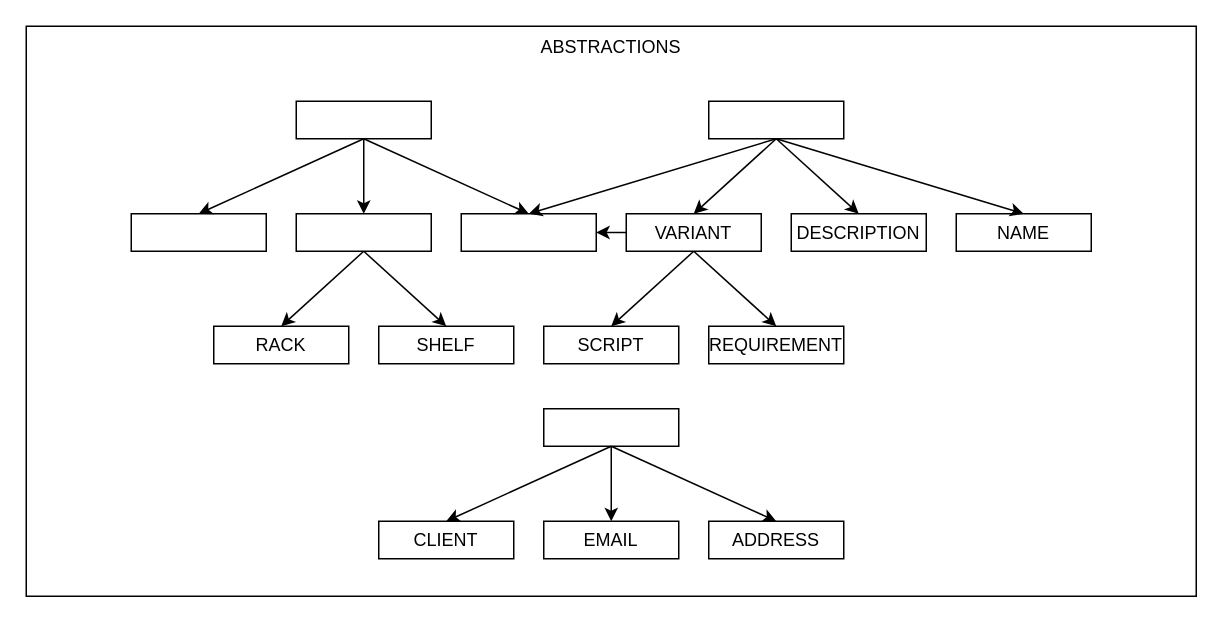
This 1223x623 diagram has some shape labels left out. Here are the shapes that lost their labels. From the top down, the centre of each, then its label:
At point (363, 119): "ITEM".
At point (775, 119): "COMMAND".
At point (198, 231): "QUANTITY".
At point (363, 231): "POSITION".
At point (528, 231): "ID".
At point (610, 426): "USER".
